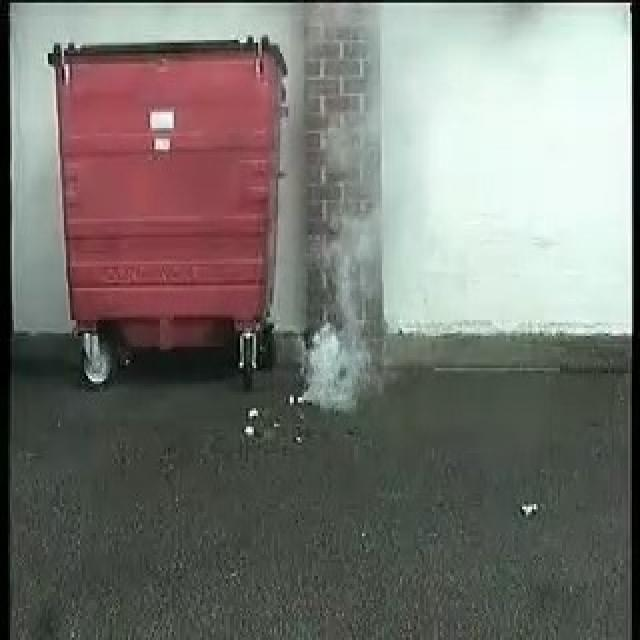smoke: (291, 217, 388, 407)
